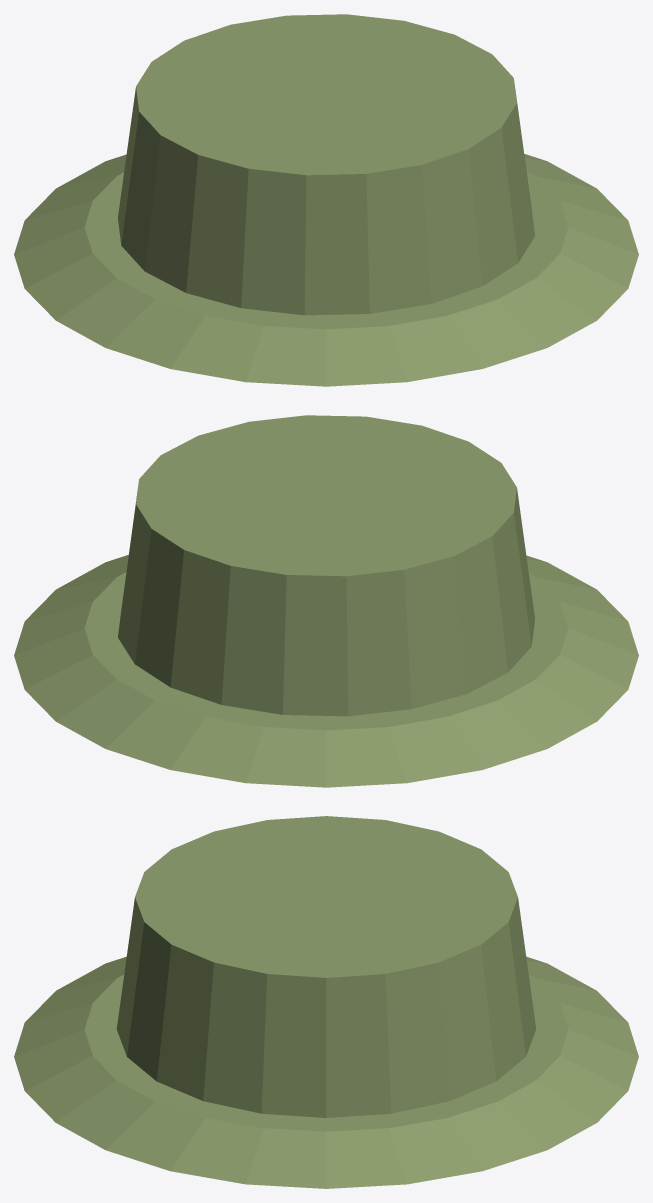
Rendered from bucket-hat.glb.
The picture shows the model from 3 angles, top to bottom: view 1: azimuth 30°, elevation 25°; view 2: azimuth 150°, elevation 25°; view 3: azimuth 270°, elevation 25°; orthographic projection.
Parts seen in each view (by area): view 1: bucket-crown, bucket-brim; view 2: bucket-crown, bucket-brim; view 3: bucket-crown, bucket-brim.
Boxes of the visible parts, x1,y1,x2,y2 form: bucket-crown: (118,14,534,315); bucket-brim: (14,154,638,386); bucket-crown: (118,415,534,716); bucket-brim: (14,555,638,787); bucket-crown: (116,816,536,1117); bucket-brim: (14,956,638,1188).
Size of the model in its own units: 0.62 by 0.175 by 0.62.
